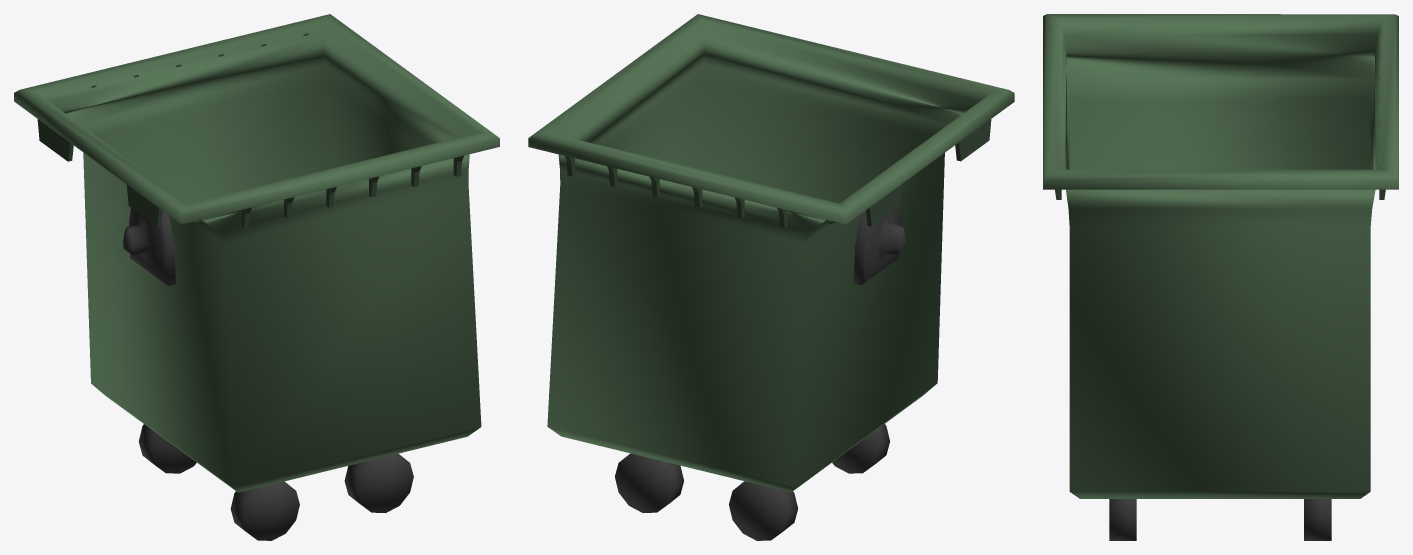
File: TrashCam.fbx
3 views of the same model, side by side, from view 1: azimuth 30°, elevation 25°; view 2: azimuth 150°, elevation 25°; view 3: azimuth 270°, elevation 25° (orthographic). The views are drawn at different scales.
Parts seen in each view (by area): view 1: Plane; view 2: Plane; view 3: Plane.
Part boxes in pixels (x1,y1,x2,y2): Plane: (14,14,499,540); Plane: (528,14,1014,540); Plane: (1043,14,1398,540).
Size of the model in its own units: 2.86 by 3.13 by 3.58.
